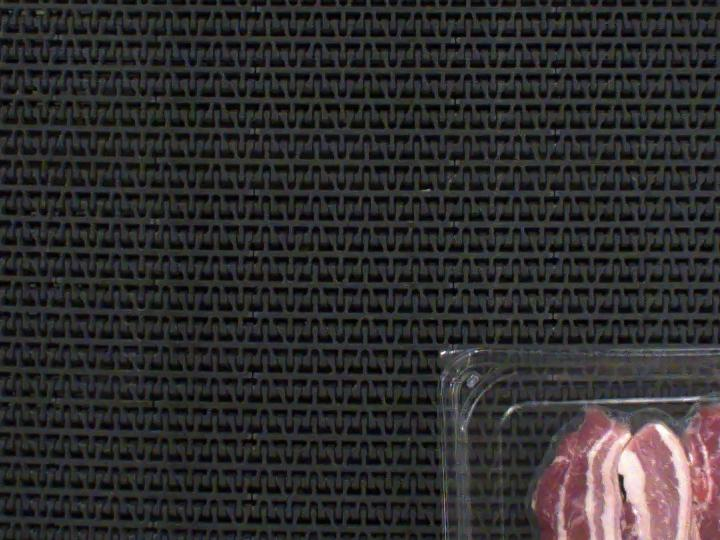unsealed: (520, 388, 720, 515)
